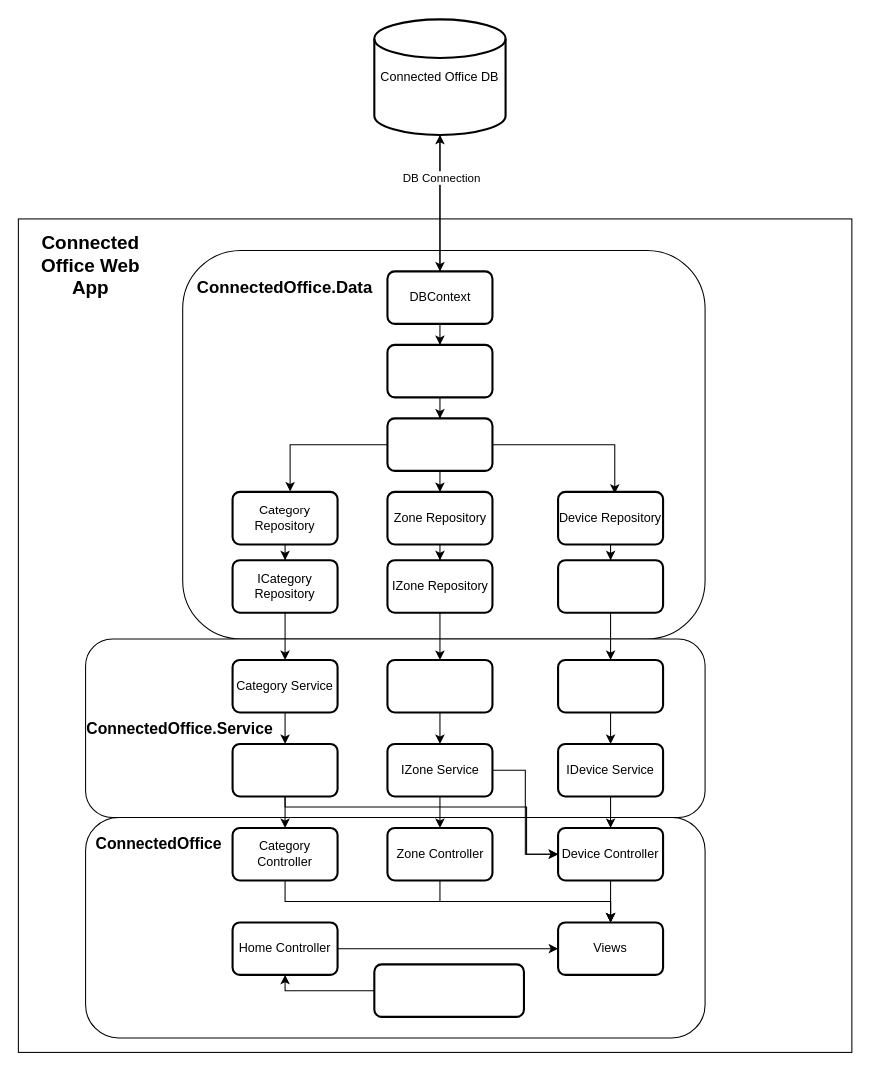
This 870x1071 diagram has some shape labels left out. Each missing label, with the centre of its shape:
"ApplicationDBContext" belongs at [448,990].
"Device Service" belongs at [610,685].
"Generic Repository" belongs at [439,370].
"ICategory Service" belongs at [284,769].
"IDevice Repository" belongs at [610,586].
"IGeneric Repository" belongs at [439,444].
"Zone Service" belongs at [439,685].
